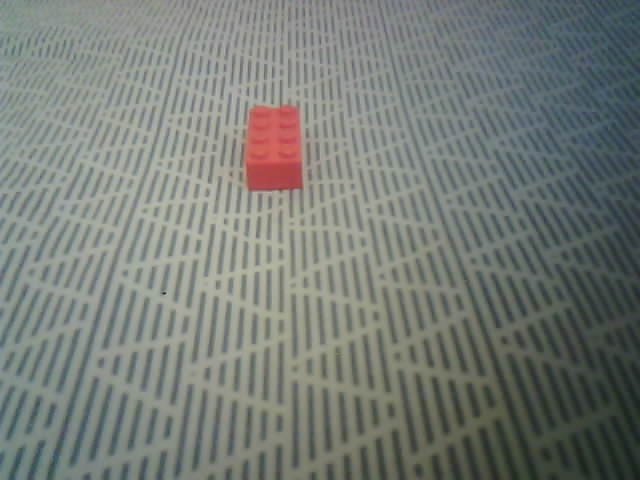lego: (244, 104, 304, 190)
